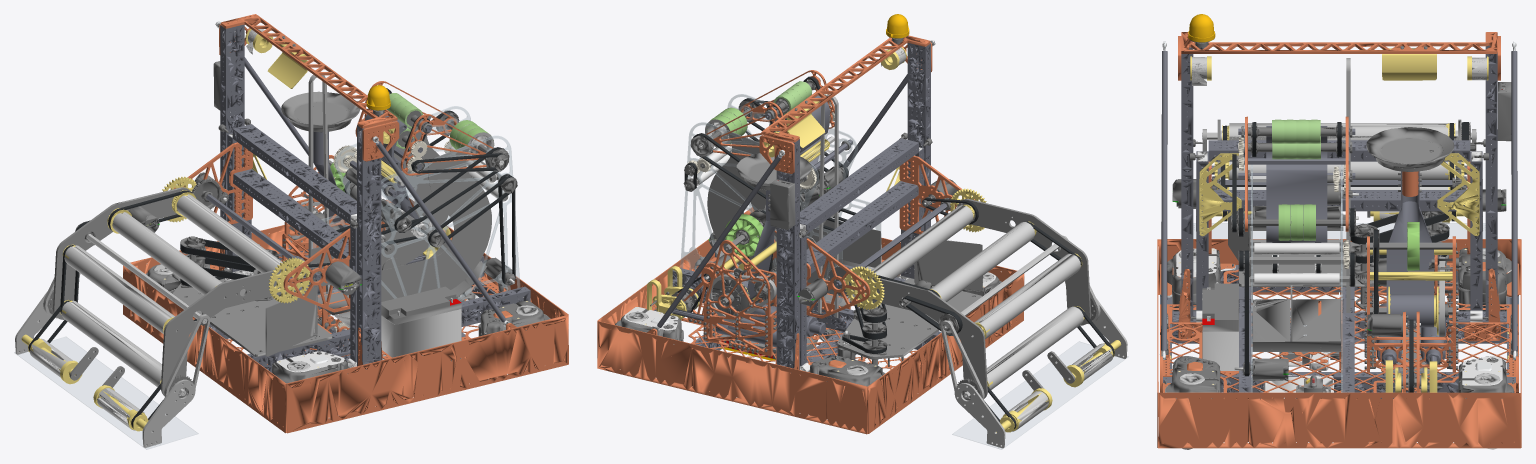
File: hero-fireweed-1540.glb
The picture shows the model from 3 angles, left to right: view 1: azimuth 30°, elevation 25°; view 2: azimuth 150°, elevation 25°; view 3: azimuth 270°, elevation 25°; orthographic projection. The views are drawn at different scales.
Parts seen in each view (by area): view 1: frame, intake, elevator-carriage, intake-ee, climb-cup, hood, climb-tube, wheel-3; view 2: frame, intake, elevator-carriage, intake-ee, hood, climb-cup, climb-tube, wheel-2; view 3: frame, elevator-carriage, intake, climb-tube, climb-cup, intake-ee, hood, wheel-2, wheel-3, wheel-7.
Boxes of the visible parts, left/top/right/bottom form: frame: left=123, top=14, right=568, bottom=433; intake: left=28, top=176, right=309, bottom=431; elevator-carriage: left=174, top=118, right=383, bottom=368; intake-ee: left=14, top=289, right=198, bottom=449; climb-cup: left=281, top=91, right=360, bottom=132; hood: left=355, top=81, right=492, bottom=175; climb-tube: left=313, top=131, right=348, bottom=233; wheel-3: left=461, top=128, right=494, bottom=161; frame: left=597, top=14, right=1024, bottom=434; intake: left=844, top=188, right=1114, bottom=432; elevator-carriage: left=775, top=132, right=978, bottom=371; intake-ee: left=952, top=296, right=1128, bottom=449; hood: left=706, top=70, right=834, bottom=156; climb-cup: left=736, top=153, right=811, bottom=190; climb-tube: left=741, top=190, right=775, bottom=299; wheel-2: left=705, top=115, right=736, bottom=147; frame: left=1157, top=14, right=1521, bottom=449; elevator-carriage: left=1172, top=139, right=1506, bottom=322; intake: left=1202, top=119, right=1476, bottom=222; climb-tube: left=1386, top=171, right=1433, bottom=327; climb-cup: left=1366, top=127, right=1454, bottom=196; intake-ee: left=1193, top=179, right=1485, bottom=238; hood: left=1245, top=116, right=1348, bottom=231; wheel-2: left=1303, top=204, right=1315, bottom=240; wheel-3: left=1278, top=204, right=1290, bottom=240; wheel-7: left=1291, top=204, right=1303, bottom=240.
Bounding box in the file's own units: 1.1 × 0.8089 × 0.7602.
